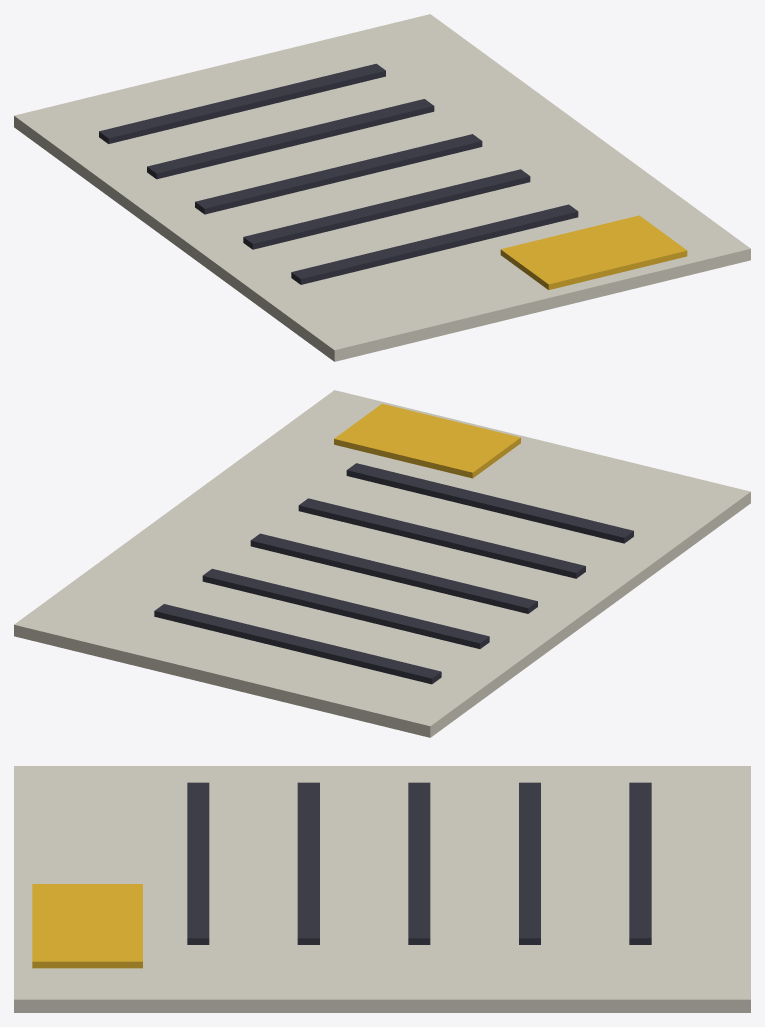
The model's file is painter_receipt.glb.
The picture shows the model from 3 angles, top to bottom: view 1: azimuth 30°, elevation 25°; view 2: azimuth 150°, elevation 25°; view 3: azimuth 270°, elevation 25°; orthographic projection. The views are drawn at different scales.
Visible parts, largest first — view 1: sheet_pawn_story_paper, line_pawn_story_ink (×5), smear_receipt_gold; view 2: sheet_pawn_story_paper, line_pawn_story_ink (×5), smear_receipt_gold; view 3: sheet_pawn_story_paper, line_pawn_story_ink (×5), smear_receipt_gold.
Part boxes in pixels (box(x1,y1,x2,y2)): sheet_pawn_story_paper: box(14, 14, 750, 361); line_pawn_story_ink (×5): box(99, 63, 578, 284); smear_receipt_gold: box(500, 215, 687, 289); sheet_pawn_story_paper: box(14, 390, 750, 737); line_pawn_story_ink (×5): box(154, 463, 633, 684); smear_receipt_gold: box(334, 403, 520, 478); sheet_pawn_story_paper: box(14, 766, 750, 1012); line_pawn_story_ink (×5): box(187, 782, 651, 944); smear_receipt_gold: box(32, 884, 142, 968).
Size of the model in its own units: 0.15 by 0.006 by 0.2.
